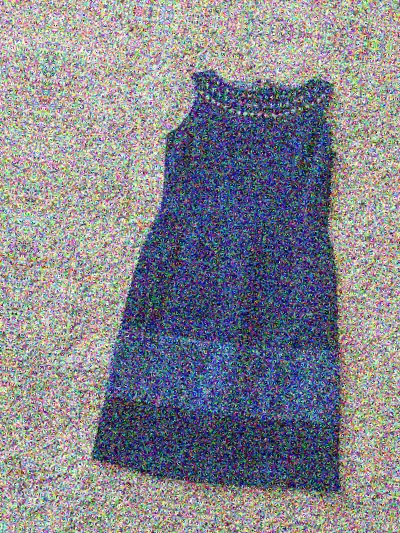Dress: (70, 36, 400, 505), (139, 0, 400, 25)
